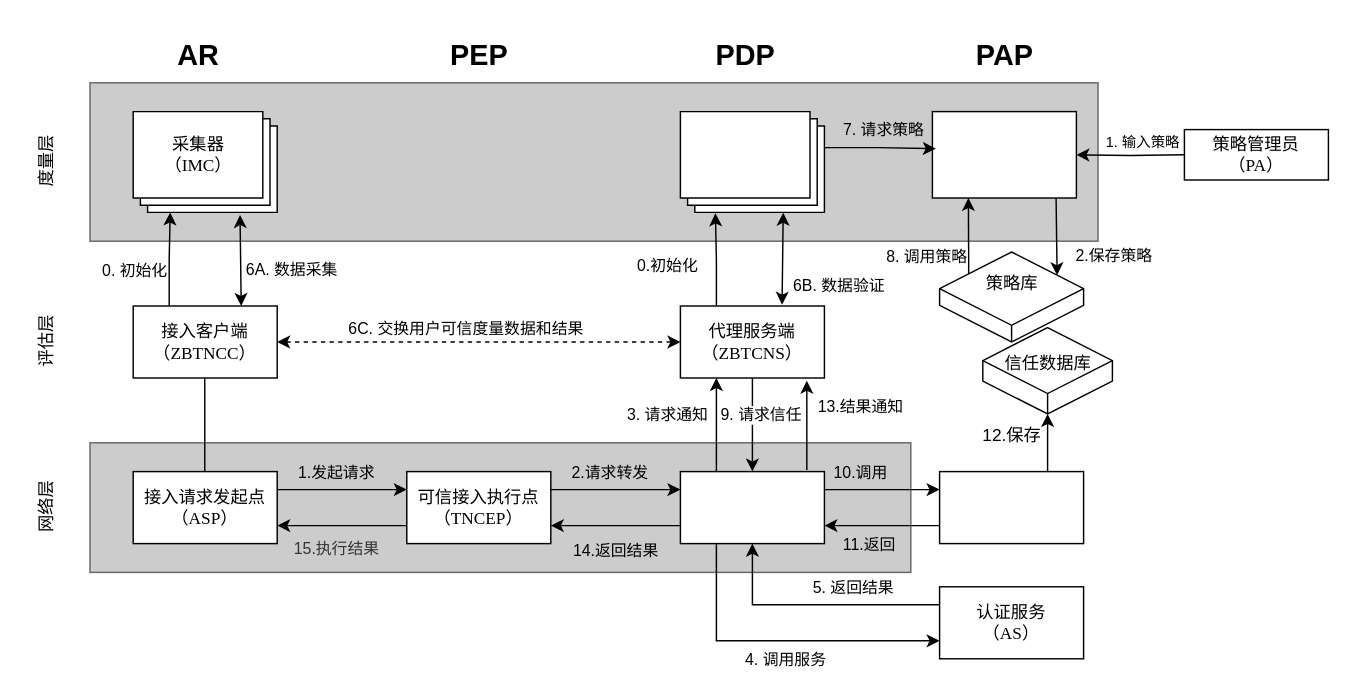
Some shapes in this 1354 by 694 pixel diagram are drawn without their labels. The box of each missing label's shape, as (x1, y1, x2, y2) in pixels:
信任引擎 （TE）: (938, 470, 1084, 544)
可信接入决策 （TNCA）: (679, 470, 824, 544)
可信要素策略管理 （BPM）: (931, 110, 1076, 198)
验证器 （IMV）: (679, 110, 824, 212)
